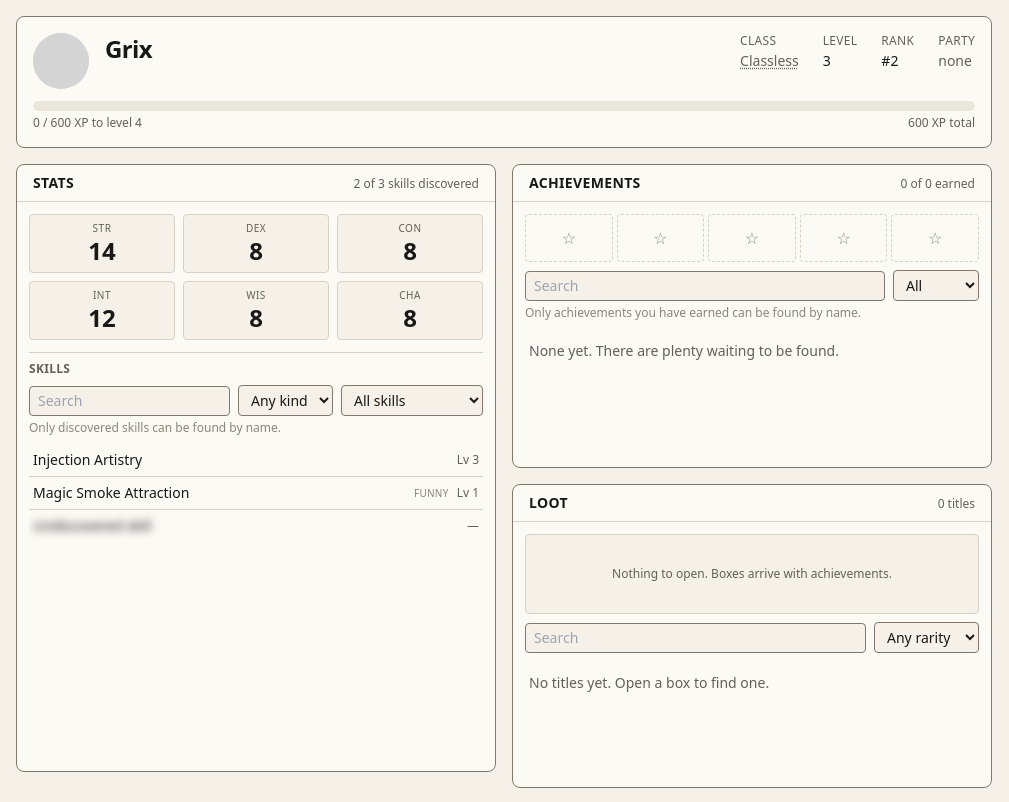
it: the stats panel › blurs an undiscovered skill, and cannot find it by name
Expected: the text "Injection Artistry" is shown, 33,450 -> 142,470
Expected: the text labelled "Undiscovered skill" is shown, 33,516 -> 151,536
Step 1. Type "Undiscovered" into the field named "Search skills" → (130, 400), box 29,386 -> 230,416
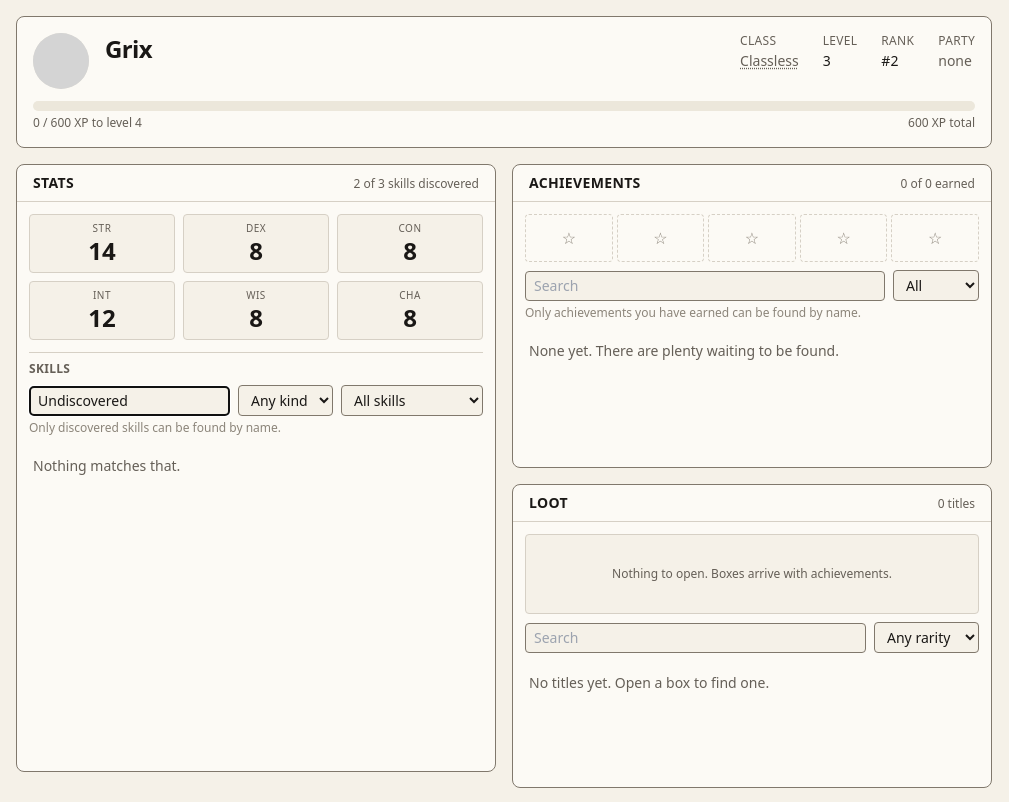
Expected: the text labelled "Undiscovered skill" is gone
